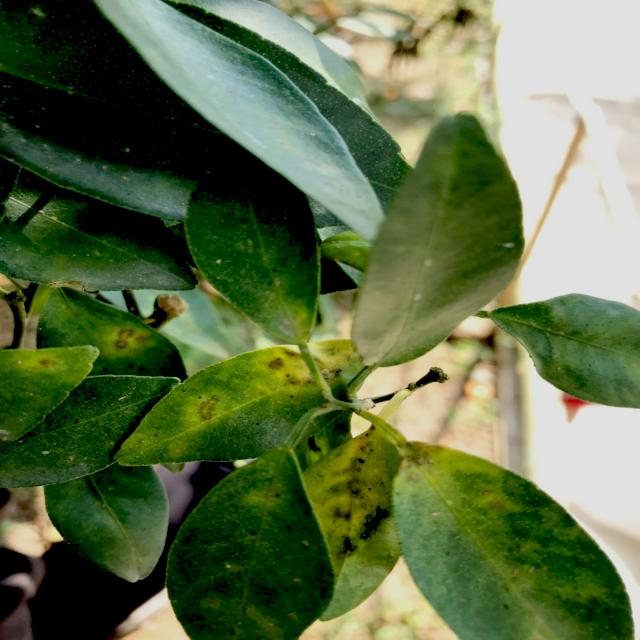canker: (141, 341, 359, 454), (291, 436, 413, 608), (84, 324, 158, 368), (14, 350, 87, 380)
